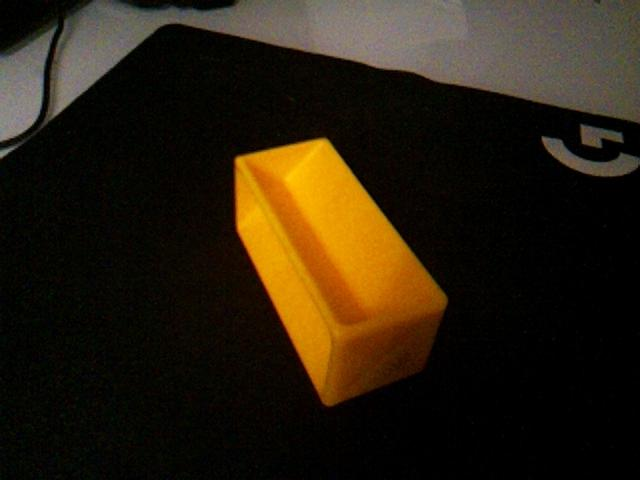yellow: (232, 136, 450, 408)
